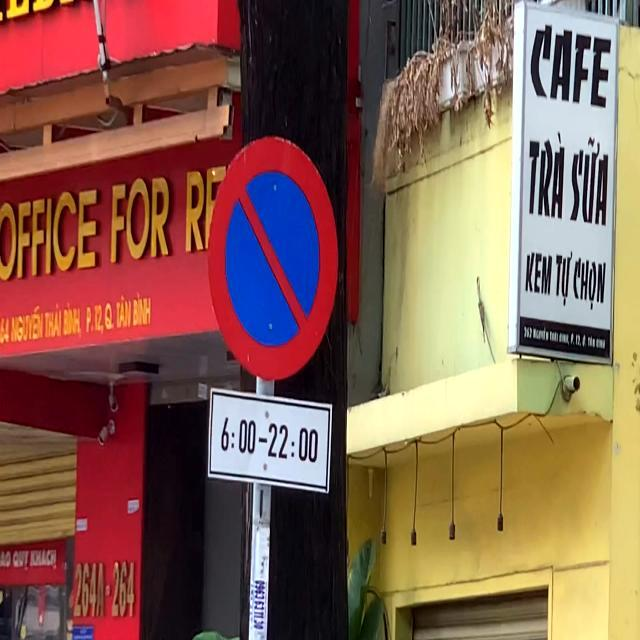Cam do xe: (208, 136, 340, 382)
